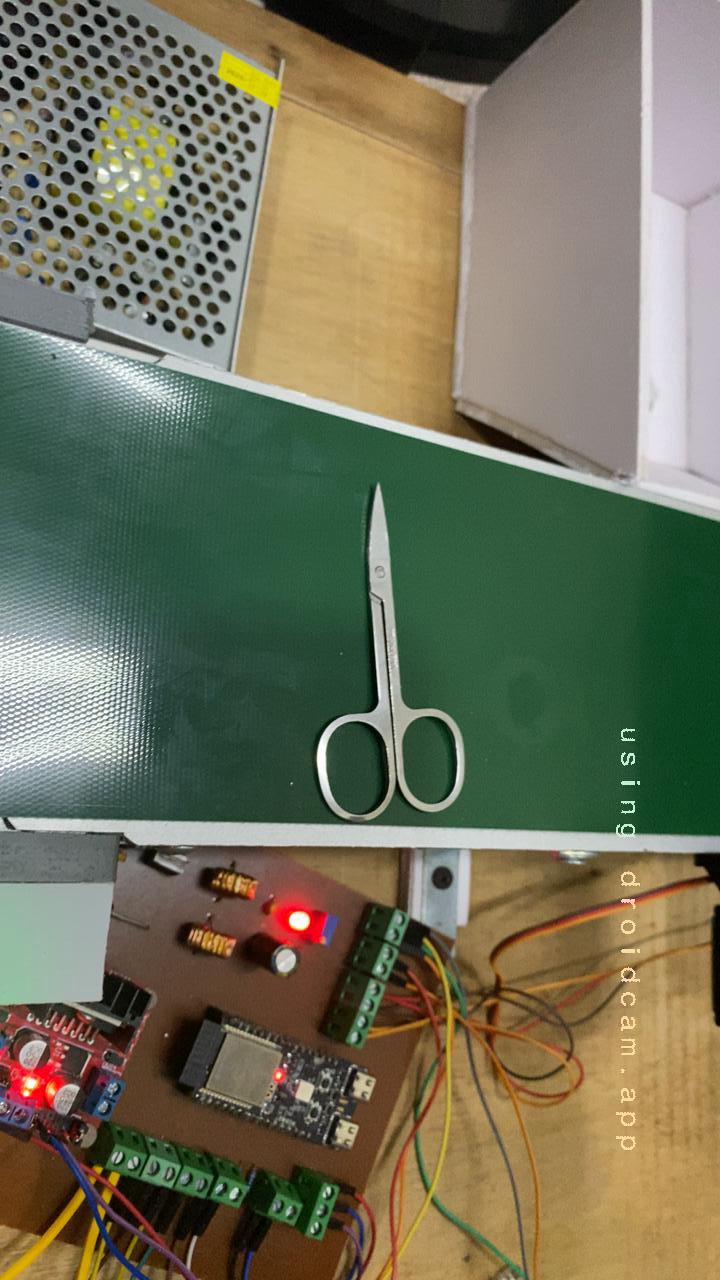scissor: (280, 466, 490, 835)
